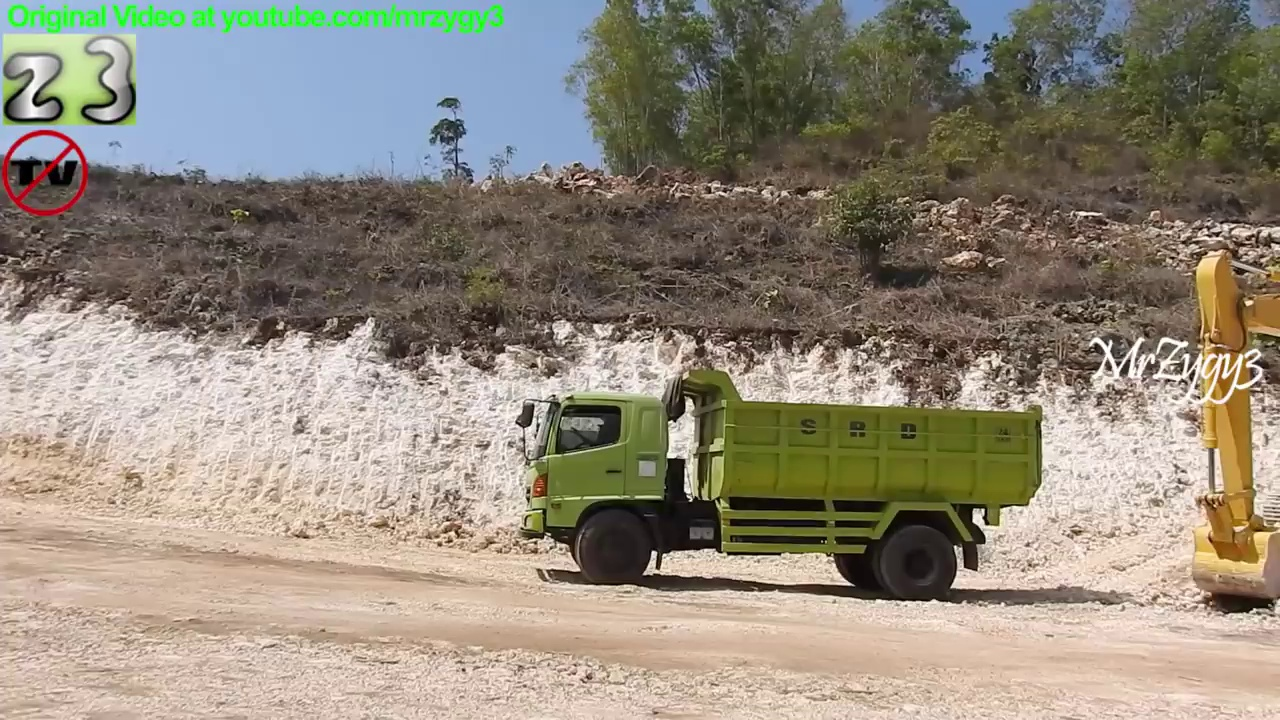excavator: (1182, 241, 1280, 611)
truck: (509, 362, 1053, 606)
